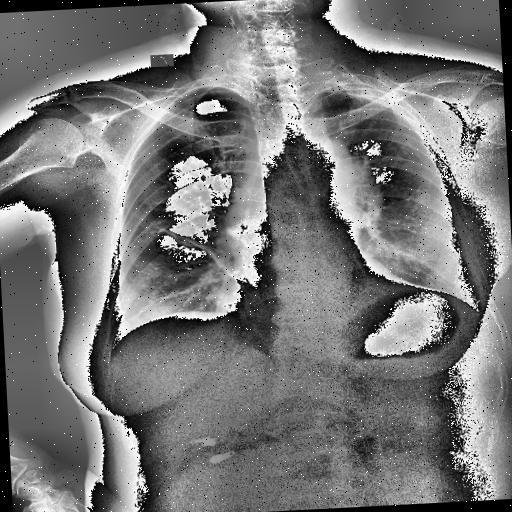0- Aortic enlargement: (223, 140, 357, 220), (269, 137, 356, 206), (289, 138, 353, 194)
10- Pleural effusion: (466, 298, 488, 318)
11- Pleural thickening: (314, 76, 423, 138), (360, 84, 408, 114), (466, 298, 488, 318)
13- Pulmonary fibrosis: (160, 220, 246, 296), (158, 222, 244, 290), (155, 222, 238, 286)
7- Lung Opacity: (292, 70, 393, 114)
